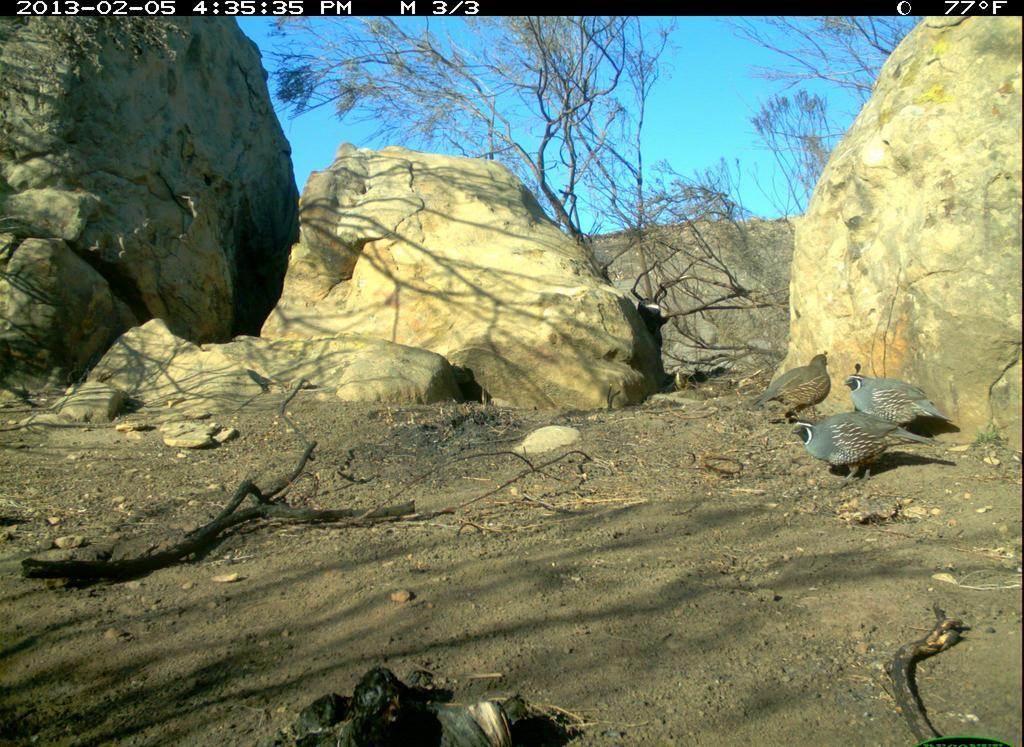bird: (788, 411, 939, 477), (831, 369, 958, 437), (749, 349, 834, 418)
